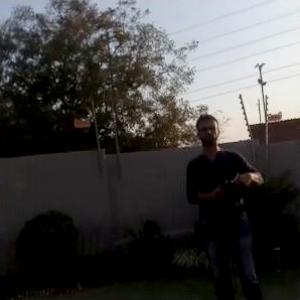follow: (181, 107, 267, 299)
